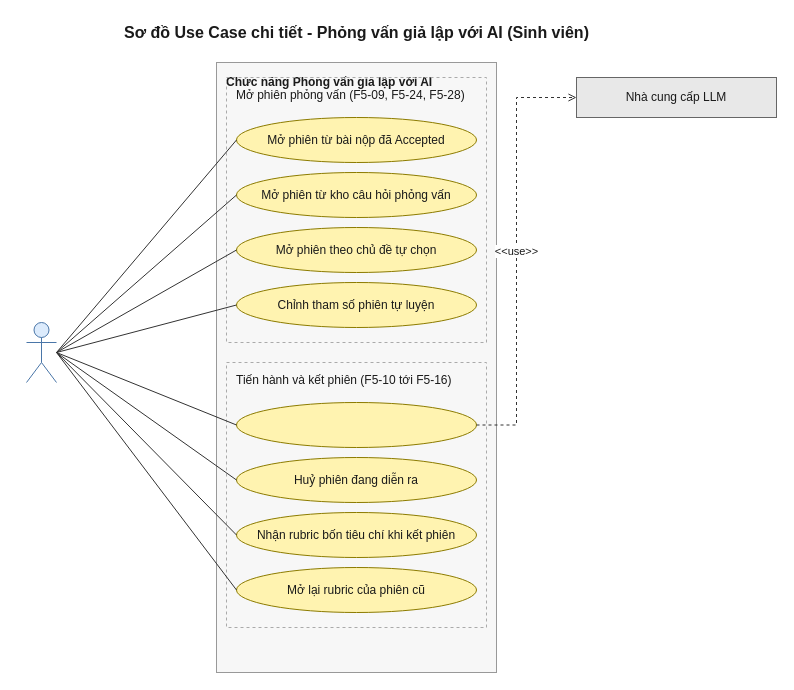
This 794x690 diagram has some shape labels left out. Each missing label, with the centre of its shape:
"Sinh viên" belongs at (x=41, y=352).
"Trả lời qua ba giai đoạn Giải trình, Phản biện, Mở rộng" belongs at (x=356, y=425).
